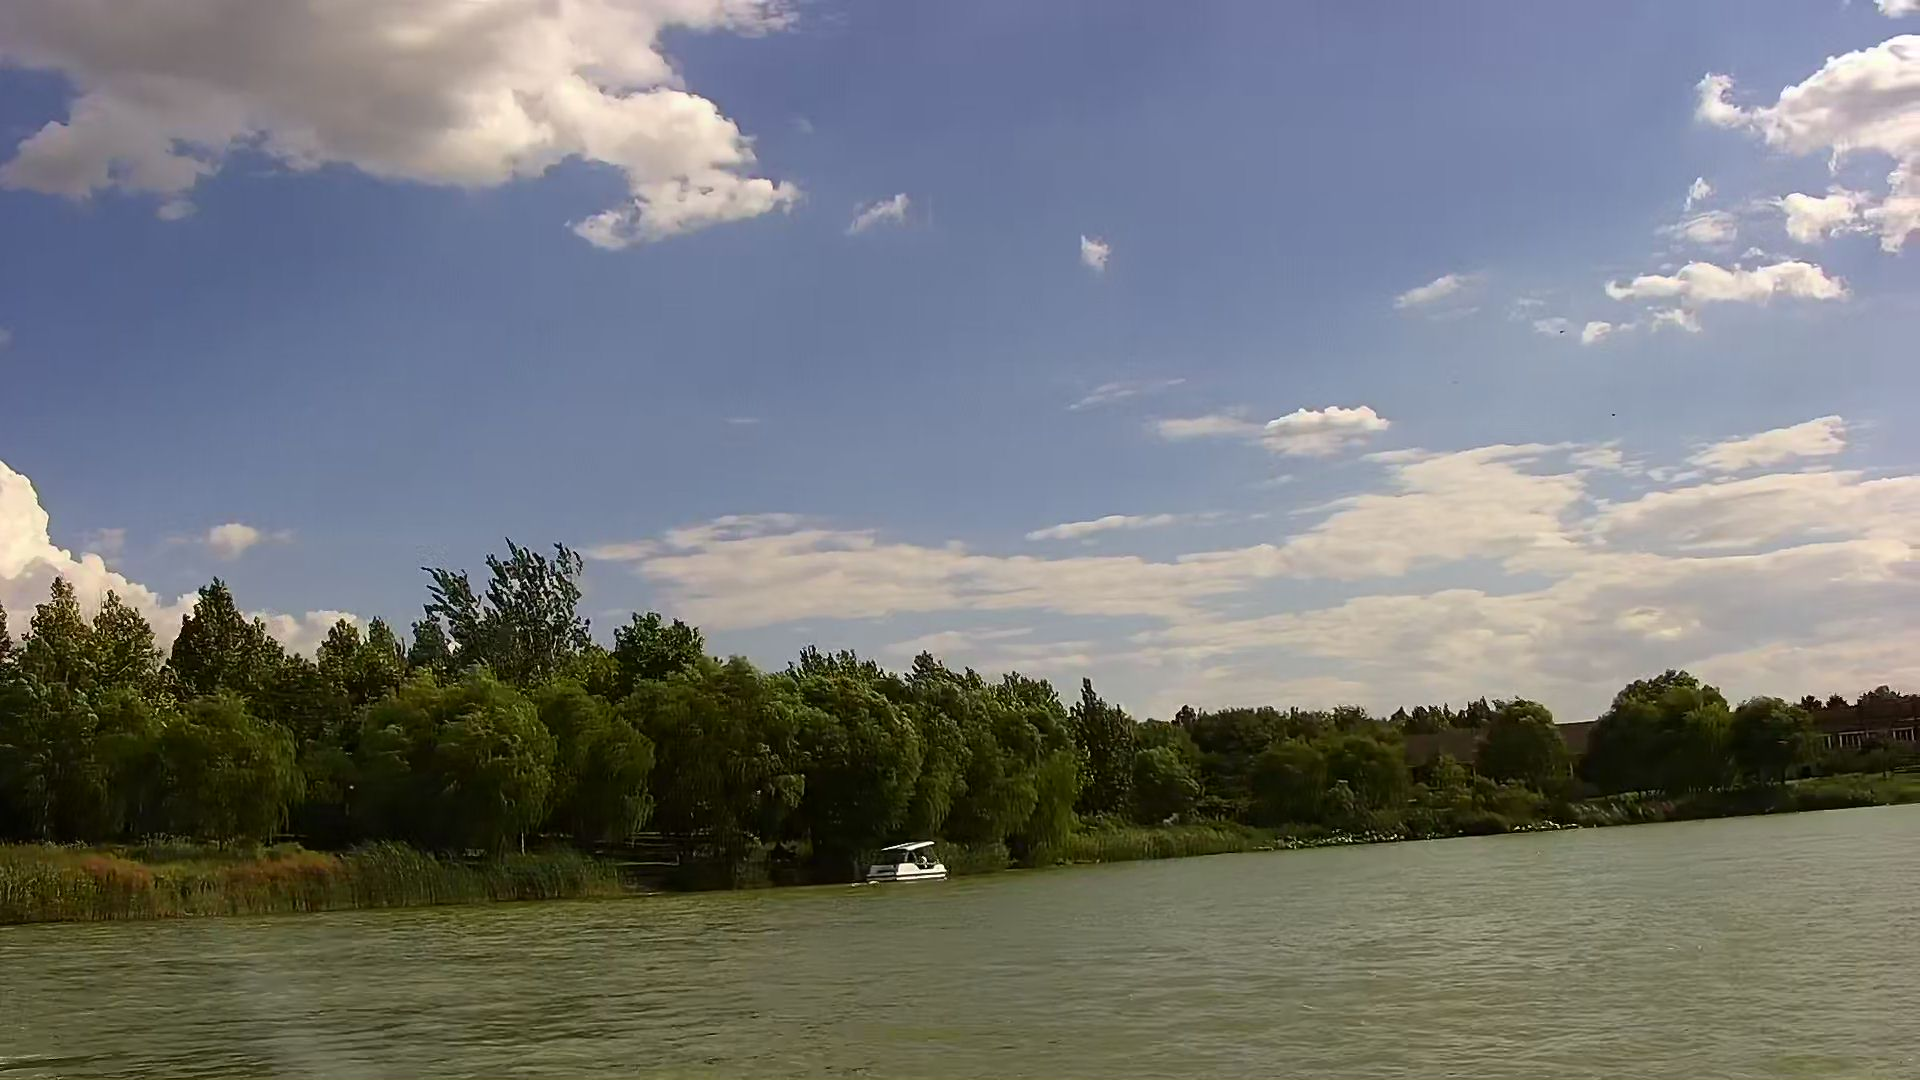boat: (869, 840, 948, 882)
